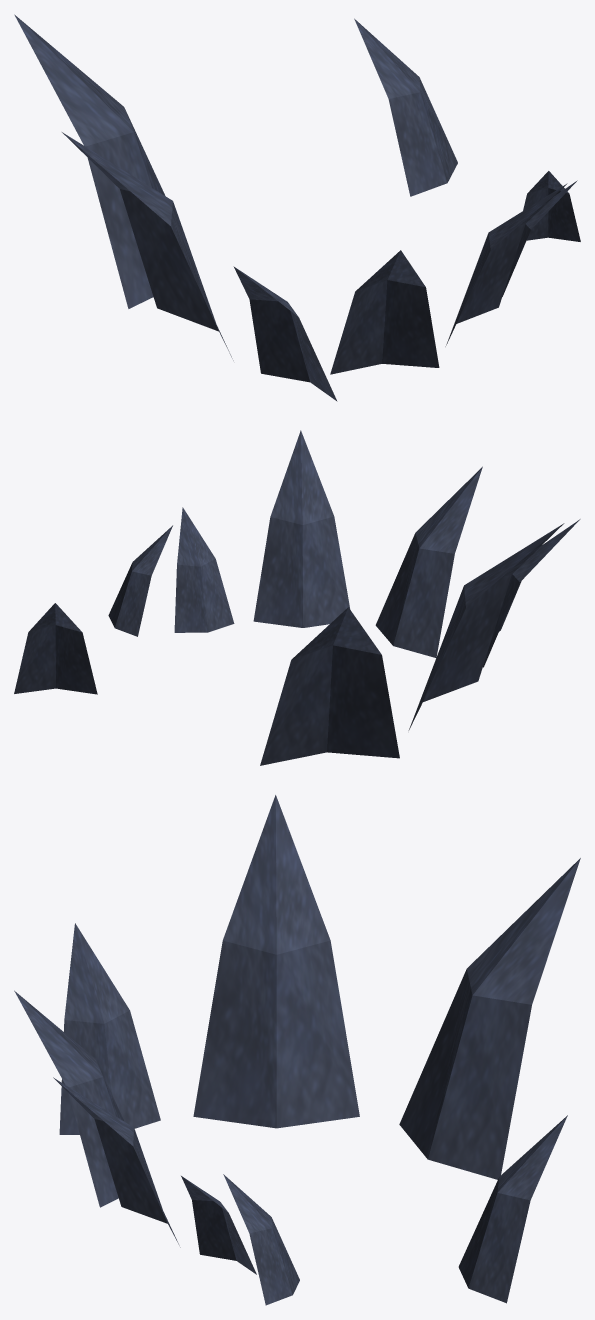
File: grass.fbx
3 views of the same model, one above another, from view 1: azimuth 30°, elevation 25°; view 2: azimuth 150°, elevation 25°; view 3: azimuth 270°, elevation 25° (orthographic). The views are drawn at different scales.
Parts seen in each view (by area): view 1: Plane.002; view 2: Plane.002; view 3: Plane.002.
Boxes of the visible parts, x1,y1,x2,y2 form: Plane.002: (14, 14, 580, 401); Plane.002: (14, 430, 580, 765); Plane.002: (14, 795, 580, 1305).
Bounding box in the file's own units: 49.52 × 23.09 × 44.72.
